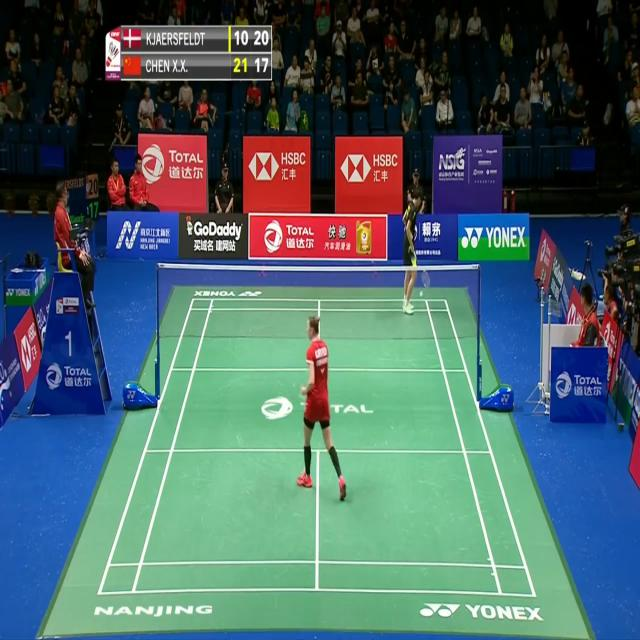Player1: (293, 314, 347, 508)
Player2: (401, 188, 431, 318)
